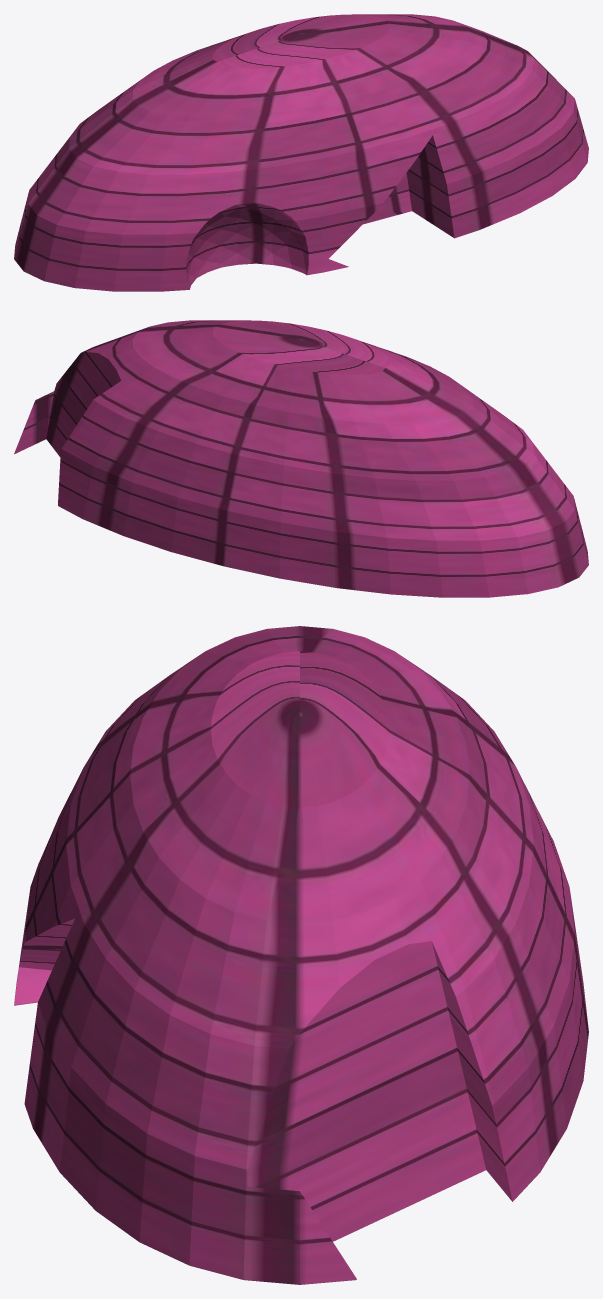
3 views of the same model, one above another, from view 1: azimuth 30°, elevation 25°; view 2: azimuth 150°, elevation 25°; view 3: azimuth 270°, elevation 25° (orthographic). The views are drawn at different scales.
Parts seen in each view (by area): view 1: geometry_0; view 2: geometry_0; view 3: geometry_0.
Part boxes in pixels (x1,y1,x2,y2): geometry_0: [14, 14, 588, 291]; geometry_0: [14, 320, 588, 597]; geometry_0: [14, 626, 588, 1284].
Bounding box in the file's own units: 2.84 × 0.8333 × 1.37.
1 material, 1 textured.
